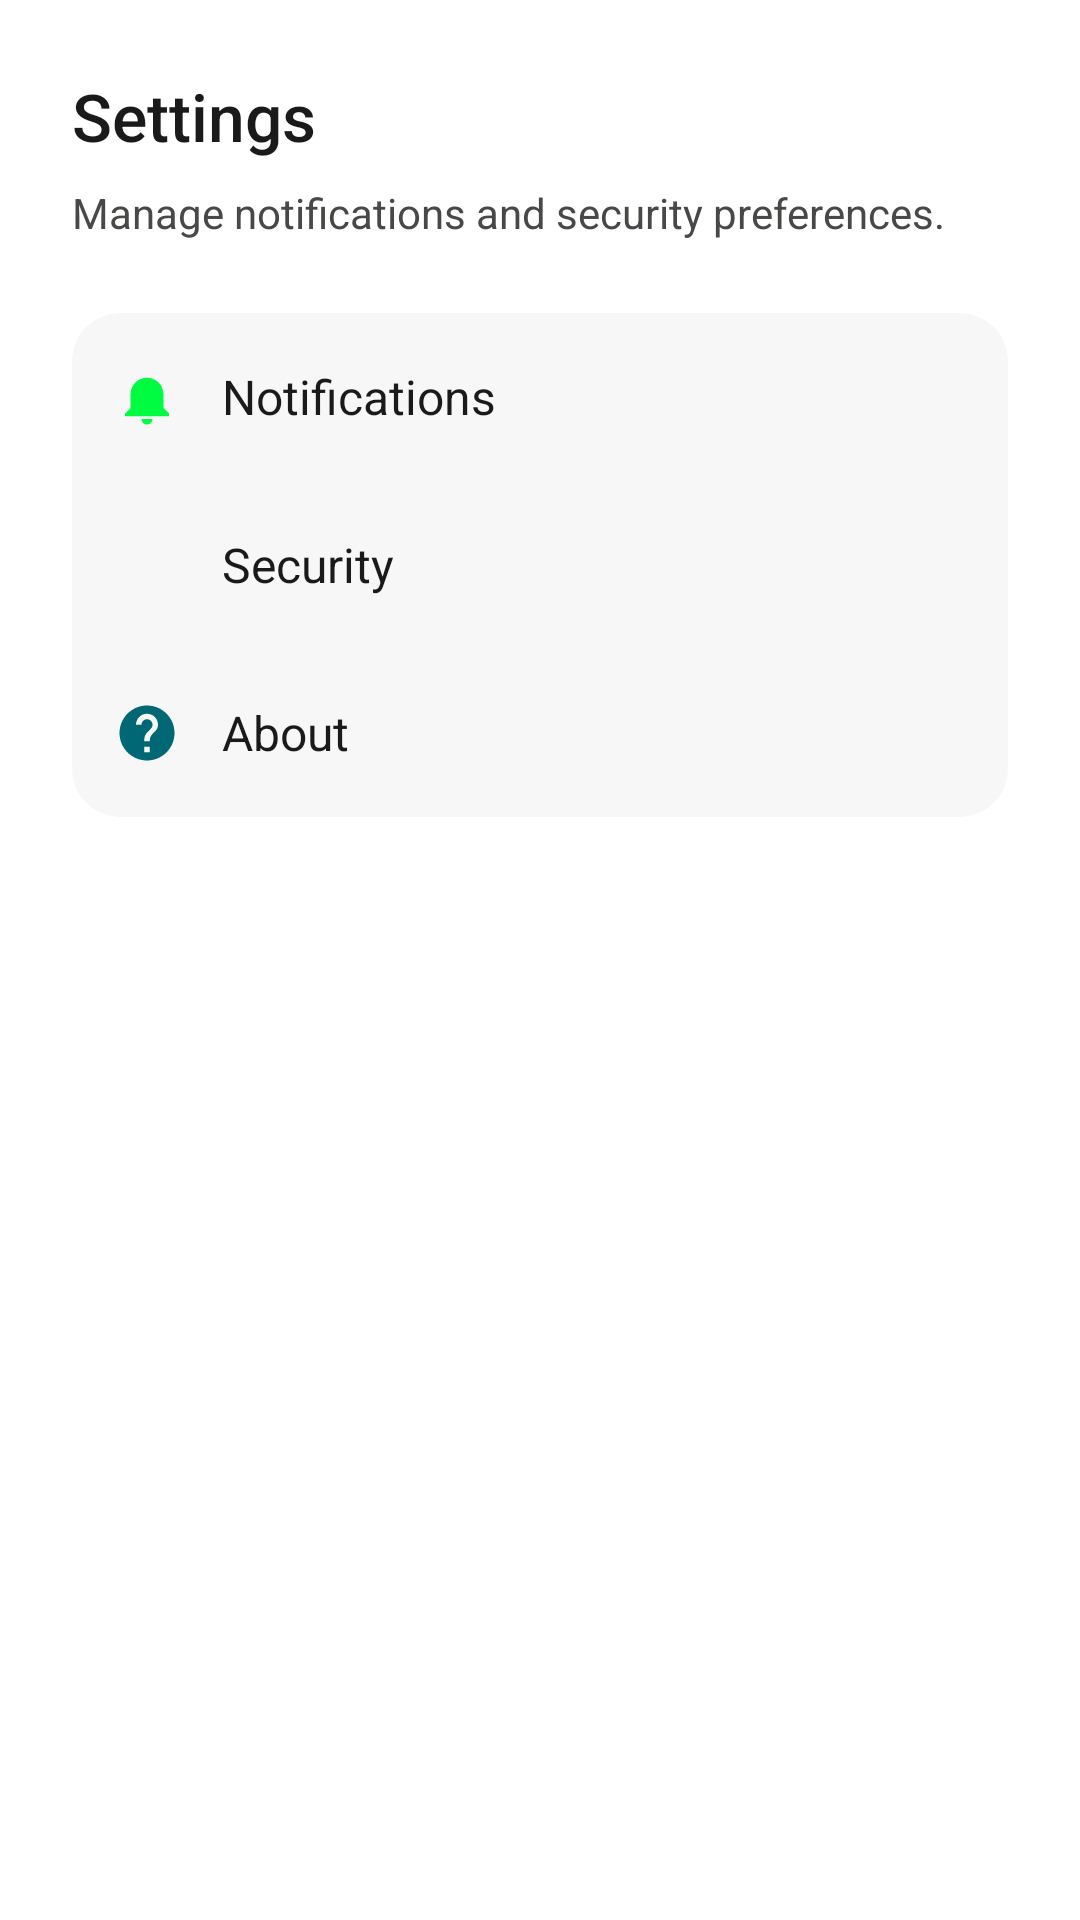

Named icons in this screenshot (1080 × 1920) and their bounding boxes, (x1, y1, x2, y2):
help: (119, 705, 175, 761)
